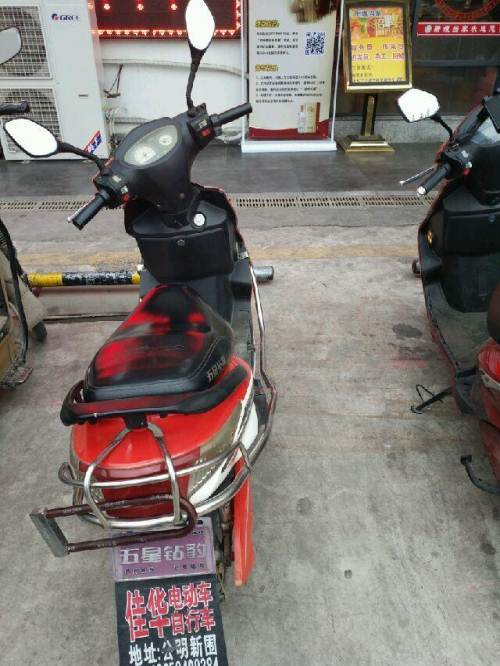电动车: (4, 1, 295, 658), (373, 66, 500, 497)
